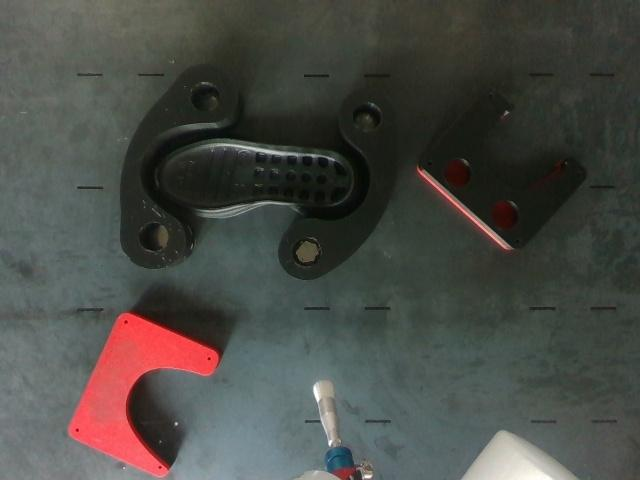shoes: (155, 141, 352, 210)
